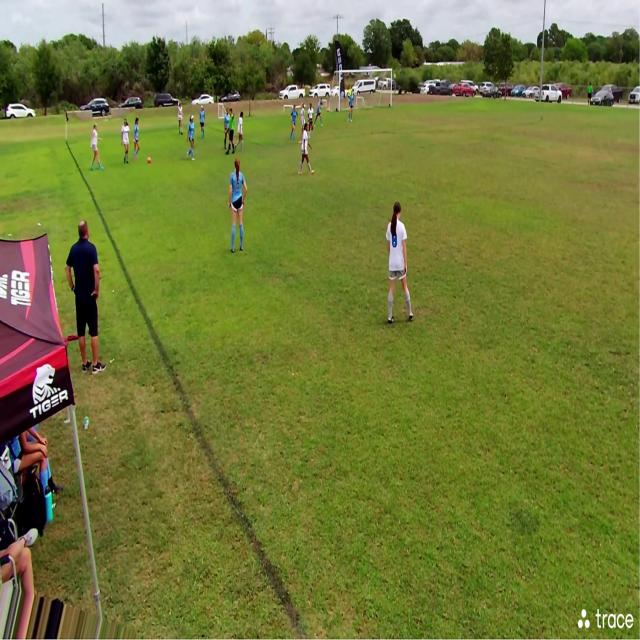ball: (146, 157, 151, 165)
team1: (230, 158, 248, 254), (132, 117, 142, 161), (188, 117, 197, 161), (291, 105, 300, 141), (199, 106, 206, 140), (315, 100, 323, 127), (224, 108, 229, 147), (350, 91, 354, 122)
team2: (388, 206, 413, 326), (300, 129, 314, 177), (90, 121, 102, 170), (121, 120, 132, 166), (236, 110, 245, 154), (176, 103, 184, 136), (307, 104, 314, 132), (300, 102, 306, 129)
